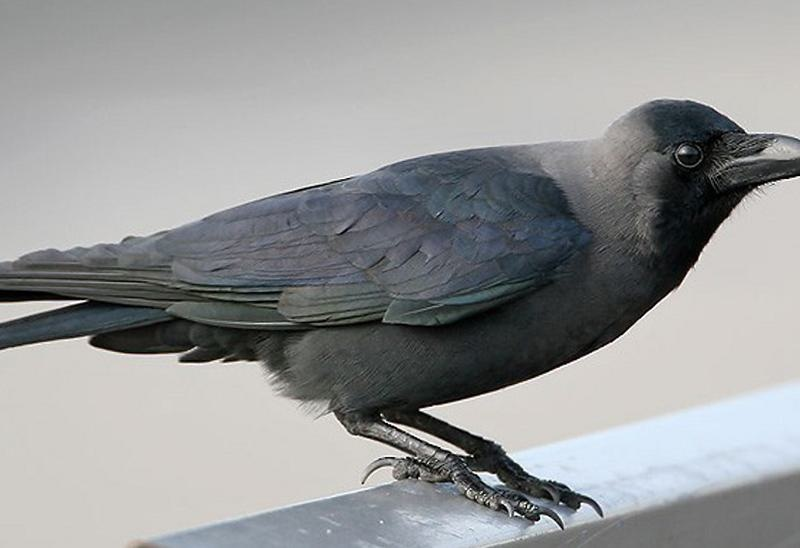crow: (1, 97, 796, 477)
